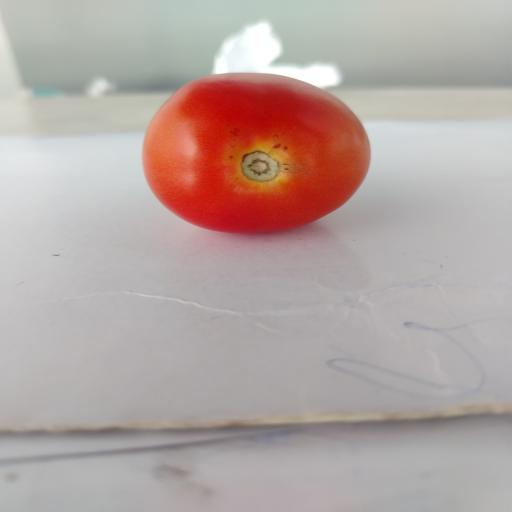ripe: (143, 73, 370, 233)
